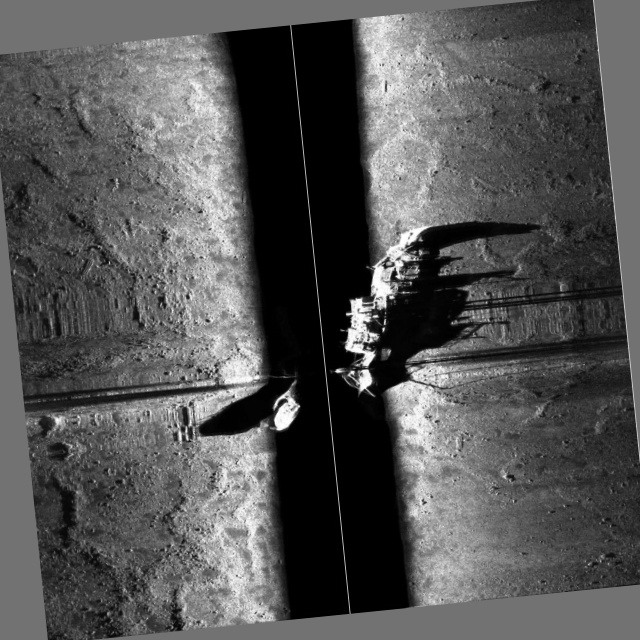Shipwreck: (65, 65, 560, 486)
